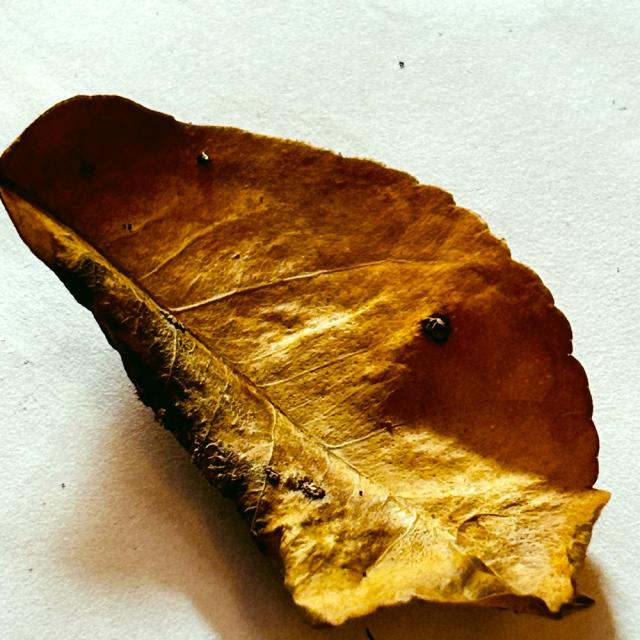DryLeaf_Lemon: (0, 96, 609, 625)
